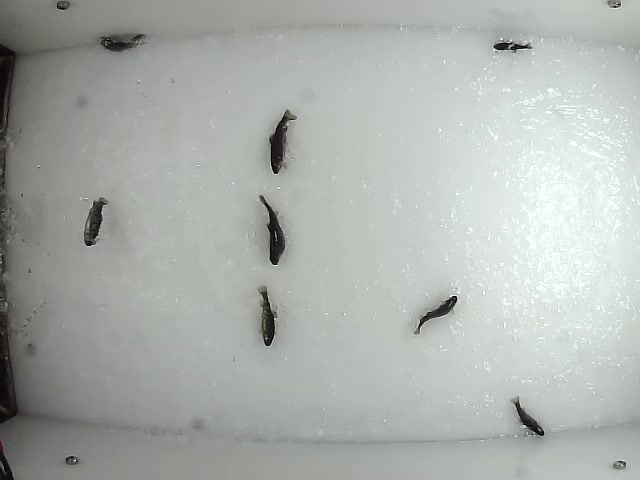fish: (256, 191, 285, 266), (267, 106, 296, 176), (412, 294, 459, 336), (81, 195, 112, 249), (255, 284, 280, 348), (510, 393, 544, 436), (97, 33, 150, 52), (490, 39, 535, 54)
